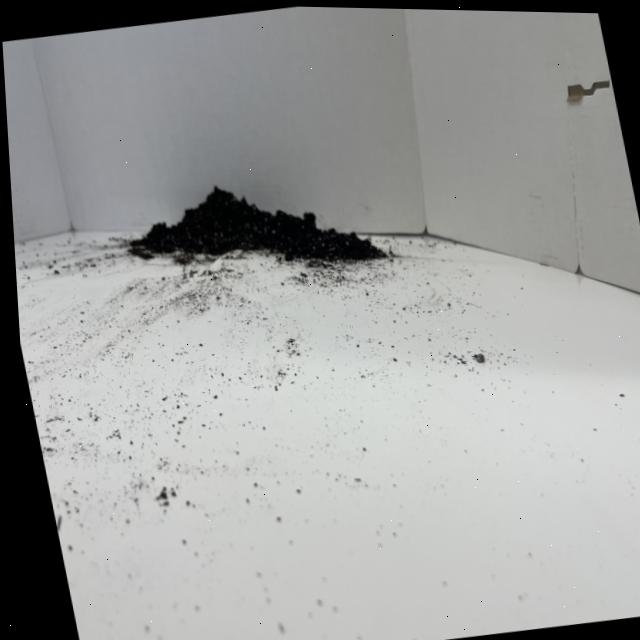soil: (114, 157, 399, 301)
